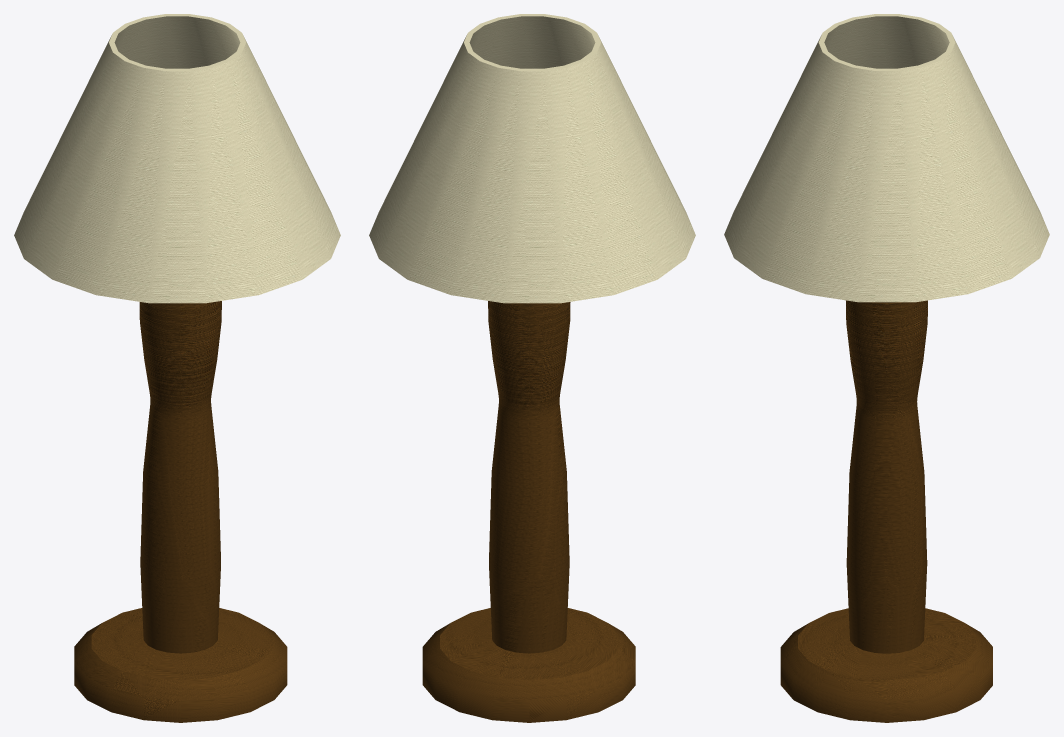
Rendered from Lamp.FBX.
The picture shows the model from 3 angles, left to right: view 1: azimuth 30°, elevation 25°; view 2: azimuth 150°, elevation 25°; view 3: azimuth 270°, elevation 25°; orthographic projection.
Visible parts, largest first — view 1: Tube001, Cylinder001; view 2: Tube001, Cylinder001; view 3: Tube001, Cylinder001.
Part boxes in pixels (bbox=[...]): Tube001: bbox=[14, 14, 340, 303]; Cylinder001: bbox=[74, 301, 287, 722]; Tube001: bbox=[369, 14, 695, 303]; Cylinder001: bbox=[422, 301, 635, 722]; Tube001: bbox=[724, 14, 1049, 302]; Cylinder001: bbox=[780, 300, 992, 722].
Size of the model in its own units: 29.37 by 63.98 by 29.82.
2 materials, 2 textured.
